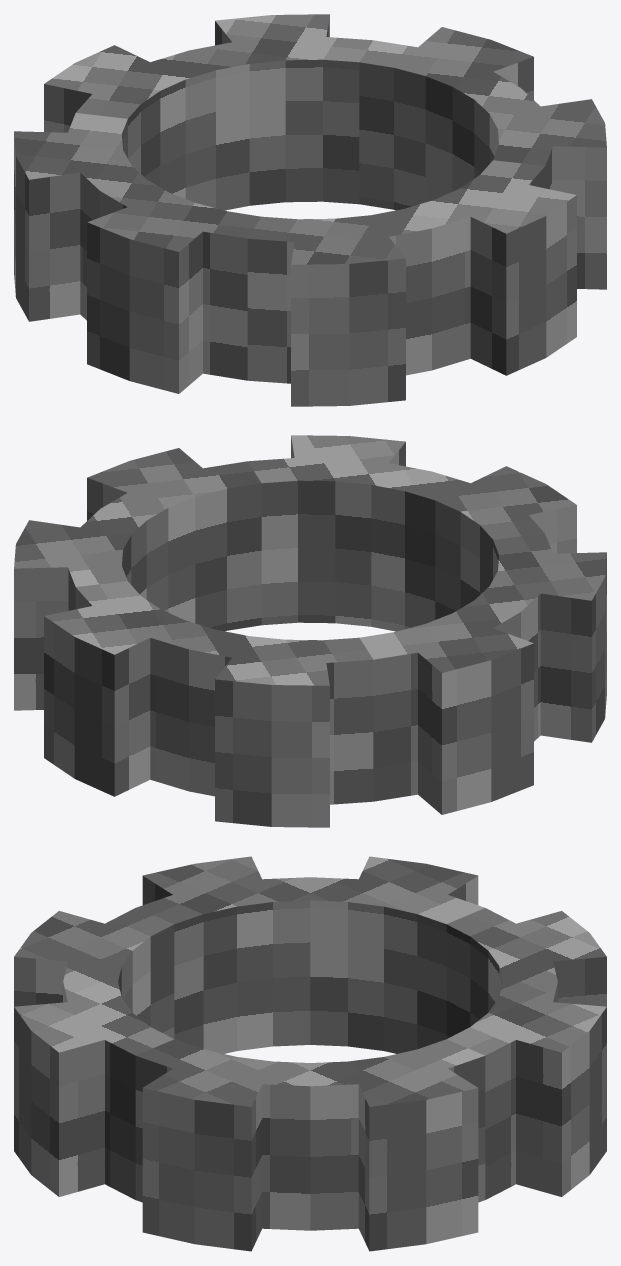
The model's file is gear.obj.
The picture shows the model from 3 angles, top to bottom: view 1: azimuth 30°, elevation 25°; view 2: azimuth 150°, elevation 25°; view 3: azimuth 270°, elevation 25°; orthographic projection.
Parts seen in each view (by area): view 1: Gear.001; view 2: Gear.001; view 3: Gear.001.
Part boxes in pixels (x1,y1,x2,y2): Gear.001: [14, 14, 606, 406]; Gear.001: [14, 435, 606, 827]; Gear.001: [14, 856, 606, 1251].
Bounding box in the file's own units: 1.94 × 0.522 × 1.94.
